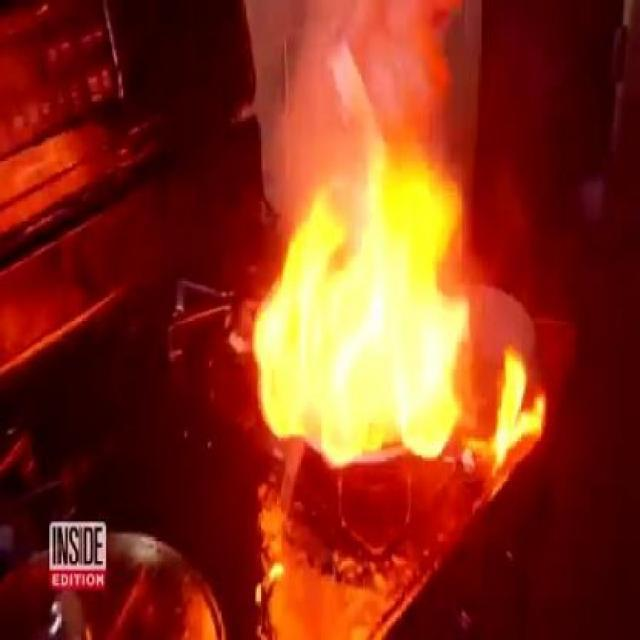fire: (265, 128, 487, 466)
